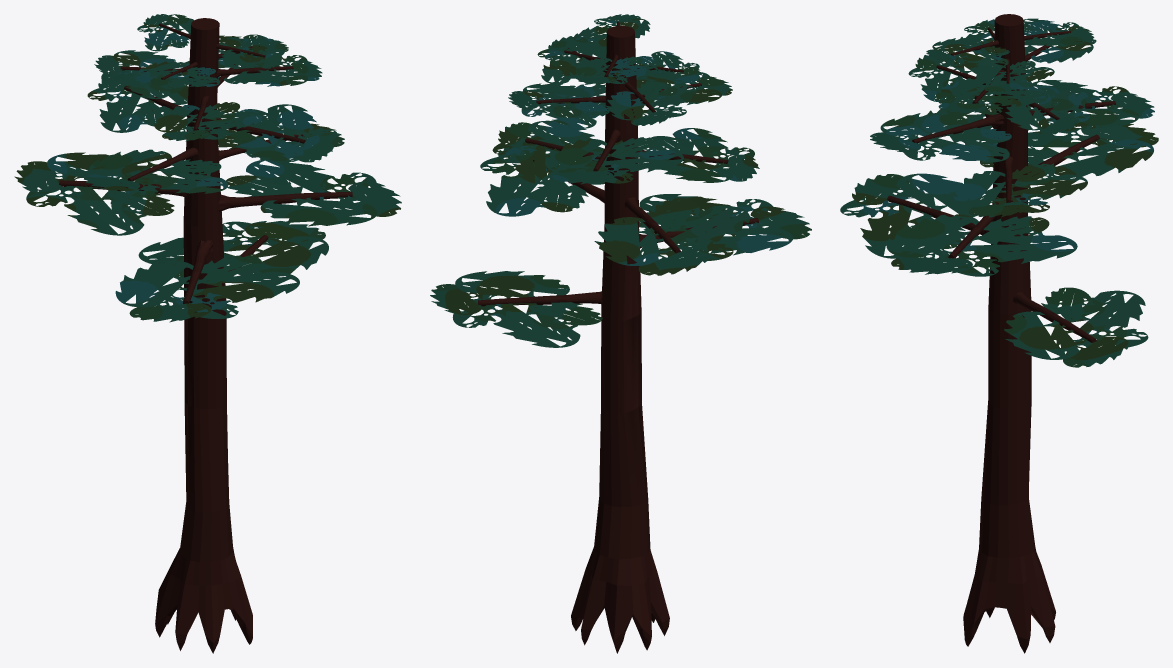
The model's file is redwood.obj.
The picture shows the model from 3 angles, left to right: view 1: azimuth 30°, elevation 25°; view 2: azimuth 150°, elevation 25°; view 3: azimuth 270°, elevation 25°; orthographic projection.
Visible parts, largest first — view 1: trunk_Cylinder, branch.011_Cylinder.012, branch.010_Cylinder.011, branch.009_Cylinder.010, branch.008_Cylinder.009, branch.012_Cylinder.013, branch.013_Cylinder.014, branch.014_Cylinder.015, branch.004_Cylinder.005, branch.006_Cylinder.007, branch.005_Cylinder.006, branch.003_Cylinder.004 (+3 smaller); view 2: trunk_Cylinder, branch.008_Cylinder.009, branch.009_Cylinder.010, branch.014_Cylinder.015, branch.011_Cylinder.012, branch.010_Cylinder.011, branch.012_Cylinder.013, branch.015_Cylinder.016, branch.007_Cylinder.008, branch.006_Cylinder.007, branch.001_Cylinder.002, branch.003_Cylinder.004 (+5 smaller); view 3: trunk_Cylinder, branch.010_Cylinder.011, branch.008_Cylinder.009, branch.011_Cylinder.012, branch.009_Cylinder.010, branch.013_Cylinder.014, branch.015_Cylinder.016, branch.014_Cylinder.015, branch.007_Cylinder.008, branch.005_Cylinder.006, branch.002_Cylinder.003, branch.004_Cylinder.005 (+5 smaller).
Boxes of the visible parts, x1,y1,x2,y2 form: trunk_Cylinder: [155, 18, 252, 653]; branch.011_Cylinder.012: [115, 240, 299, 322]; branch.010_Cylinder.011: [218, 159, 401, 226]; branch.009_Cylinder.010: [14, 152, 186, 235]; branch.008_Cylinder.009: [138, 221, 328, 277]; branch.012_Cylinder.013: [84, 147, 228, 197]; branch.013_Cylinder.014: [213, 104, 337, 162]; branch.014_Cylinder.015: [87, 71, 188, 132]; branch.004_Cylinder.005: [154, 96, 262, 141]; branch.006_Cylinder.007: [94, 50, 187, 99]; branch.005_Cylinder.006: [216, 49, 322, 86]; branch.003_Cylinder.004: [135, 61, 219, 89]; trunk_Cylinder: [571, 25, 669, 653]; branch.008_Cylinder.009: [430, 271, 602, 347]; branch.009_Cylinder.010: [594, 197, 749, 275]; branch.014_Cylinder.015: [545, 129, 683, 184]; branch.011_Cylinder.012: [639, 194, 811, 255]; branch.010_Cylinder.011: [480, 138, 604, 216]; branch.012_Cylinder.013: [637, 128, 759, 182]; branch.015_Cylinder.016: [492, 120, 601, 184]; branch.007_Cylinder.008: [508, 83, 609, 128]; branch.006_Cylinder.007: [605, 80, 696, 125]; branch.001_Cylinder.002: [576, 54, 657, 84]; branch.003_Cylinder.004: [637, 51, 702, 83]; trunk_Cylinder: [963, 14, 1055, 653]; branch.010_Cylinder.011: [886, 197, 1077, 276]; branch.008_Cylinder.009: [1004, 287, 1148, 367]; branch.011_Cylinder.012: [840, 173, 989, 258]; branch.009_Cylinder.010: [965, 124, 1158, 176]; branch.013_Cylinder.014: [870, 113, 1011, 162]; branch.015_Cylinder.016: [953, 156, 1087, 217]; branch.014_Cylinder.015: [1027, 80, 1154, 128]; branch.007_Cylinder.008: [1005, 87, 1089, 134]; branch.005_Cylinder.006: [936, 69, 1048, 114]; branch.002_Cylinder.003: [926, 38, 1009, 67]; branch.004_Cylinder.005: [908, 52, 992, 102].
Size of the model in its own units: 10.18 by 20 by 9.39.
